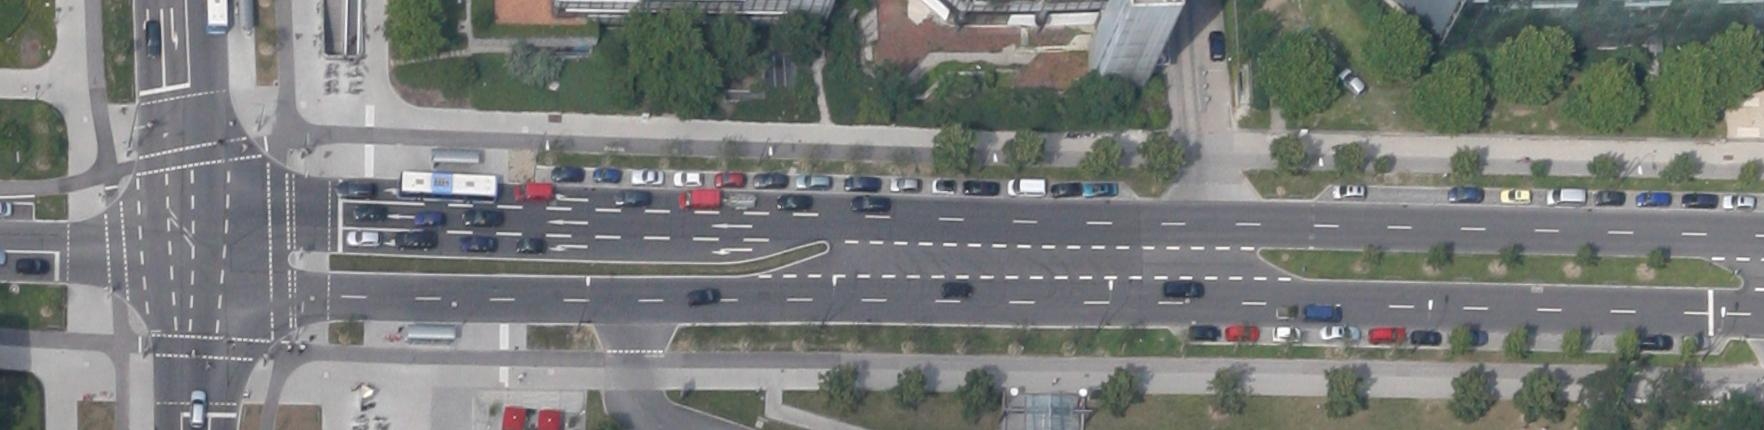car: (1336, 66, 1368, 99), (679, 188, 719, 210), (396, 230, 436, 250), (337, 179, 376, 199), (1546, 186, 1585, 206), (514, 182, 552, 202), (462, 209, 502, 227), (1162, 281, 1204, 298), (1303, 304, 1342, 322), (188, 389, 206, 428), (353, 202, 388, 222), (852, 195, 890, 213), (1008, 178, 1044, 197), (1320, 325, 1360, 342), (614, 190, 650, 208), (15, 258, 50, 276), (146, 20, 162, 59), (776, 193, 812, 210), (1447, 185, 1483, 202), (346, 230, 381, 247), (687, 288, 720, 306), (631, 168, 664, 186), (460, 236, 497, 252), (964, 179, 998, 196), (1368, 327, 1404, 343), (1640, 332, 1672, 350), (844, 176, 880, 192), (1721, 193, 1754, 210), (1208, 30, 1225, 62), (753, 172, 787, 188), (942, 280, 972, 298), (796, 174, 829, 190), (515, 238, 547, 254), (1188, 324, 1220, 340), (714, 172, 746, 188), (1410, 329, 1441, 345), (1226, 325, 1259, 340), (674, 170, 703, 187), (414, 211, 444, 227), (1594, 189, 1624, 205), (1332, 184, 1364, 199), (552, 166, 584, 181), (1272, 325, 1300, 342), (1682, 194, 1716, 208), (1083, 182, 1117, 196), (1636, 192, 1669, 206), (728, 193, 755, 210), (1500, 188, 1529, 203), (890, 177, 919, 192), (1052, 182, 1081, 196), (593, 168, 620, 182), (931, 178, 954, 193), (1276, 306, 1296, 320)
